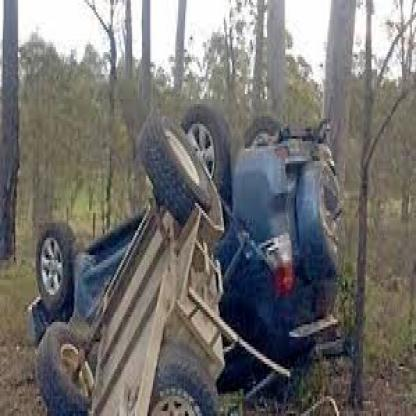accident: (26, 81, 348, 414)
